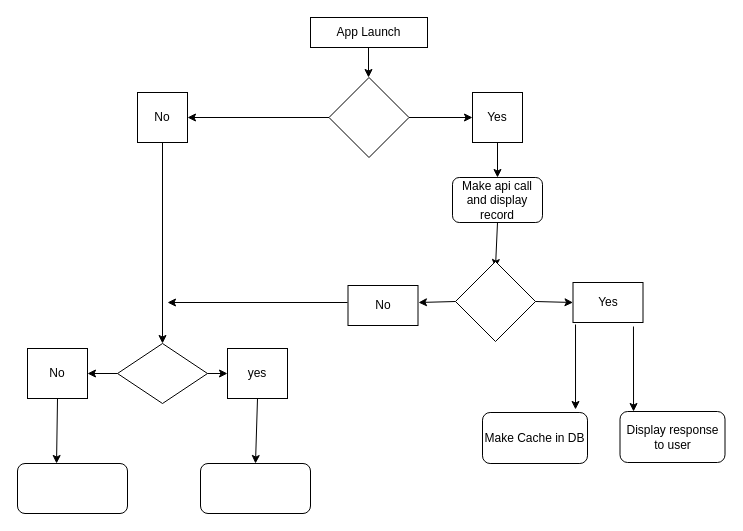
This 743x531 diagram has some shape labels left out. The box of each missing label's shape, as (x1, y1, x2, y2) in pixels:
Api success?: (454, 260, 536, 342)
Cache available?: (116, 342, 208, 404)
Display data from cache: (200, 462, 310, 514)
Internet available?: (328, 76, 409, 158)
Show internet error alert: (16, 462, 128, 514)
